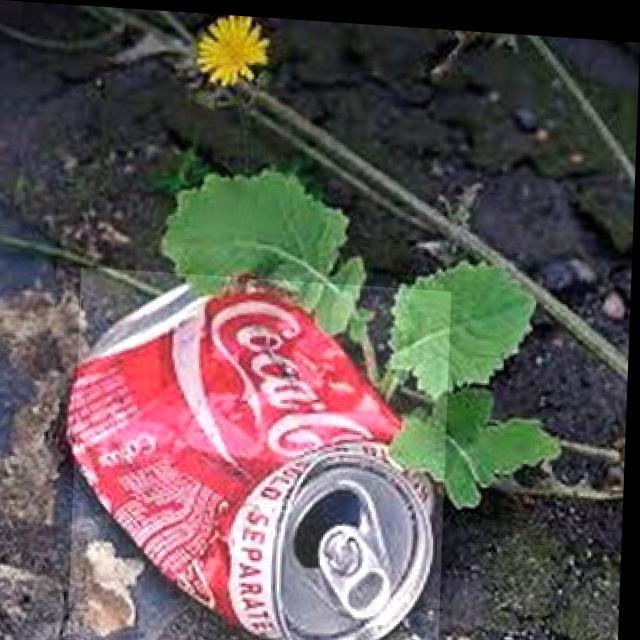trash: (72, 266, 454, 640)
